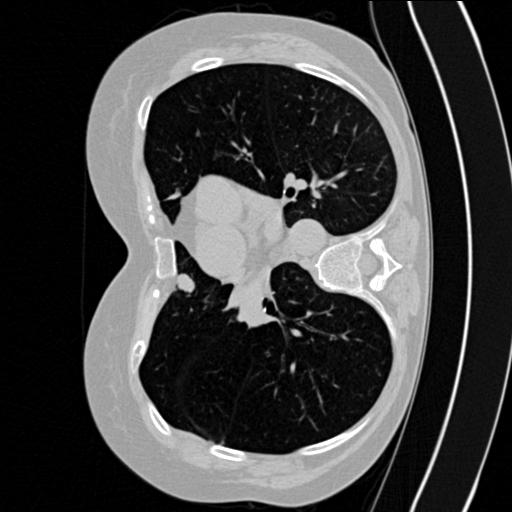nodule: (174, 273, 197, 296)
